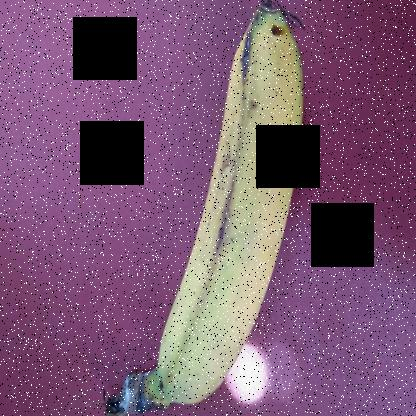ripe: (116, 17, 317, 415)
